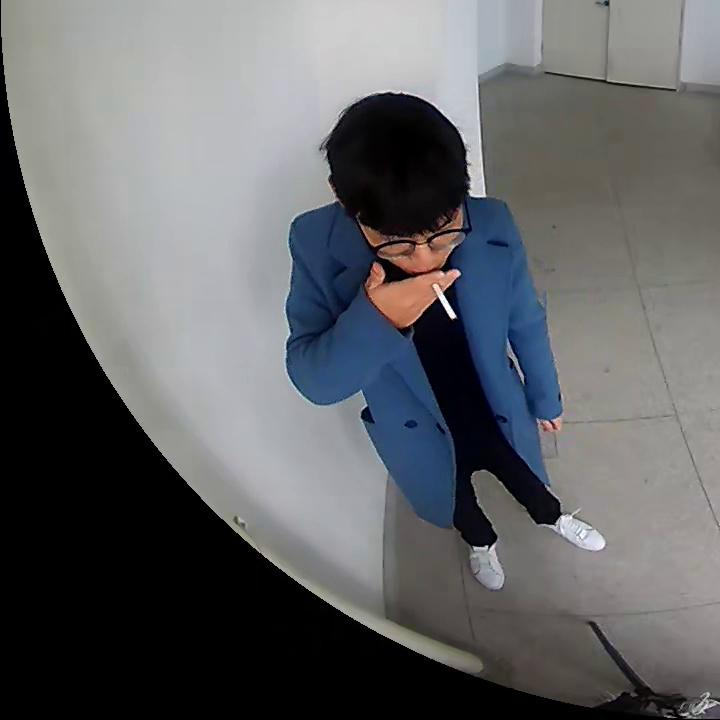handwithoutsmoke: (533, 414, 562, 441)
mouthsmoke: (340, 94, 467, 317)
